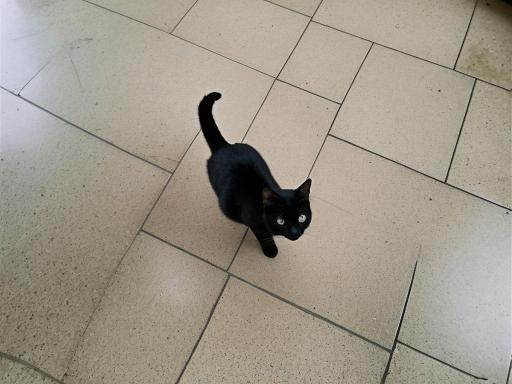cat_standing: (198, 92, 312, 258)
